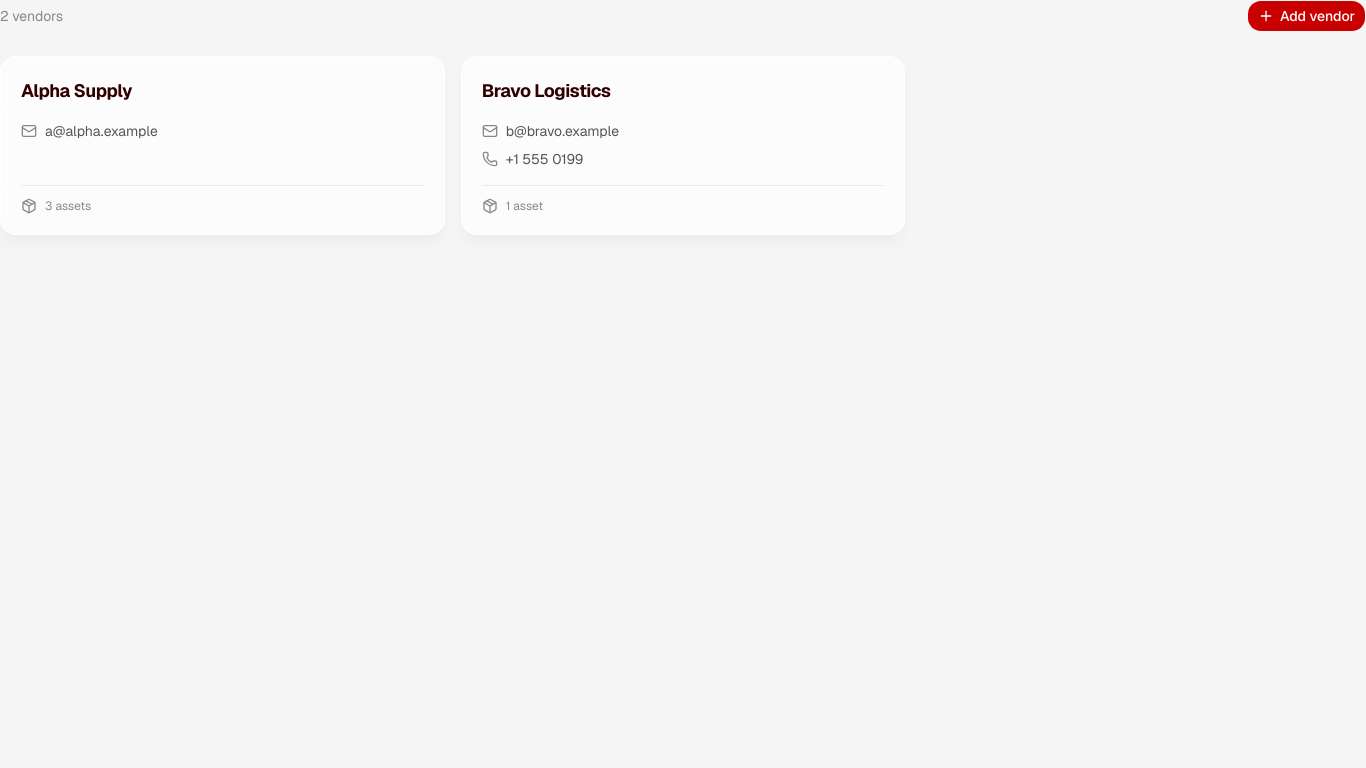
Test: VendorsListContainer › opens the form modal when Add vendor is clicked
Click the button with test id "vendors-add-button" at (1306, 16), box left=1247, top=0, right=1365, bottom=32
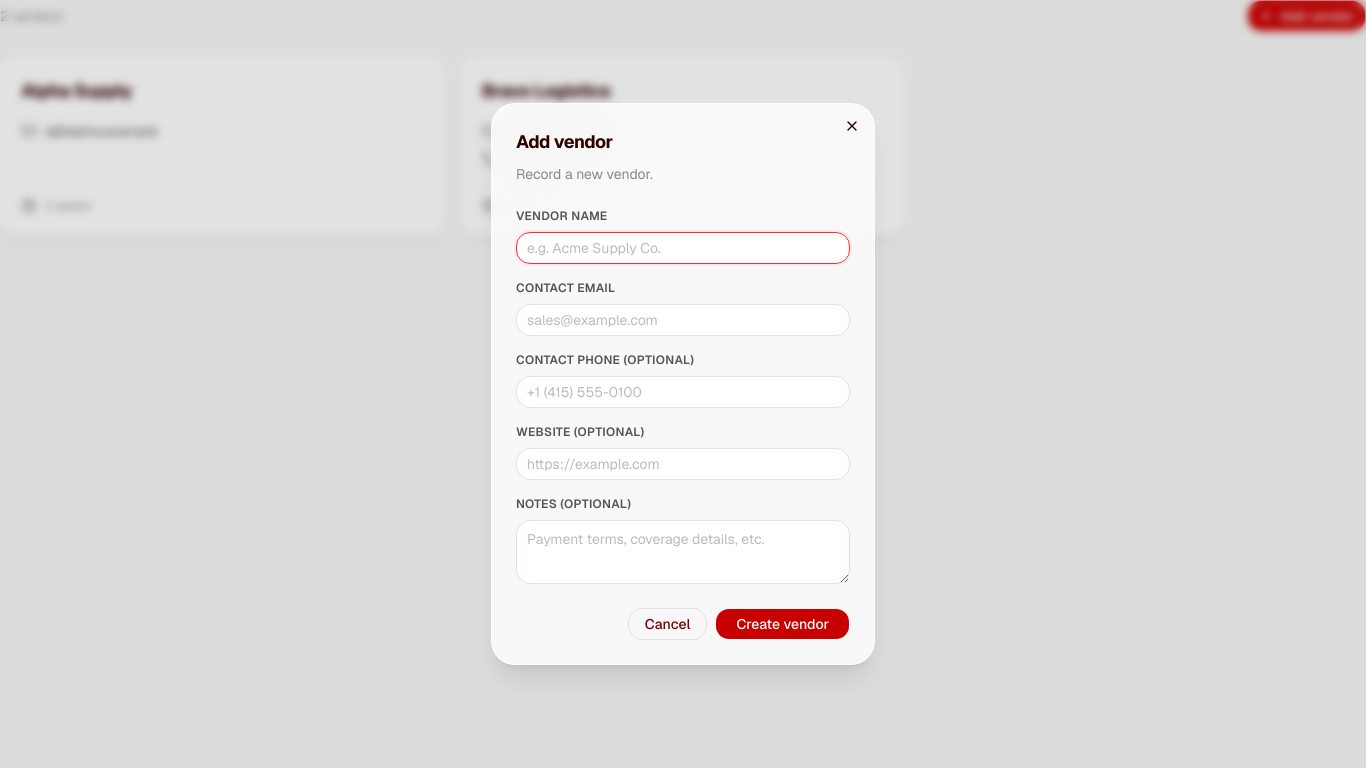
Expected: the dialog with test id "vendor-form-modal" is shown, left=491, top=103, right=875, bottom=665
